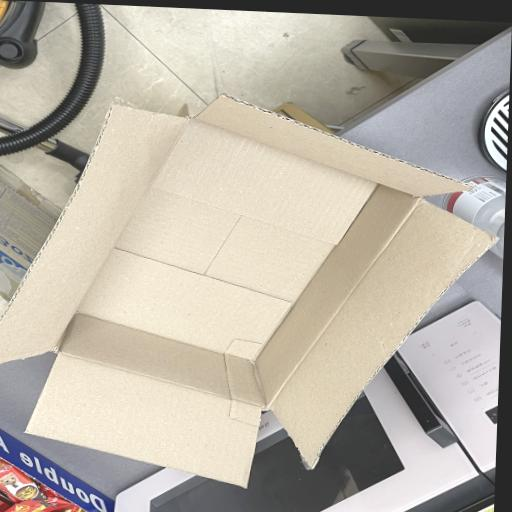box: (1, 92, 498, 489)
opened: (1, 93, 499, 489)
